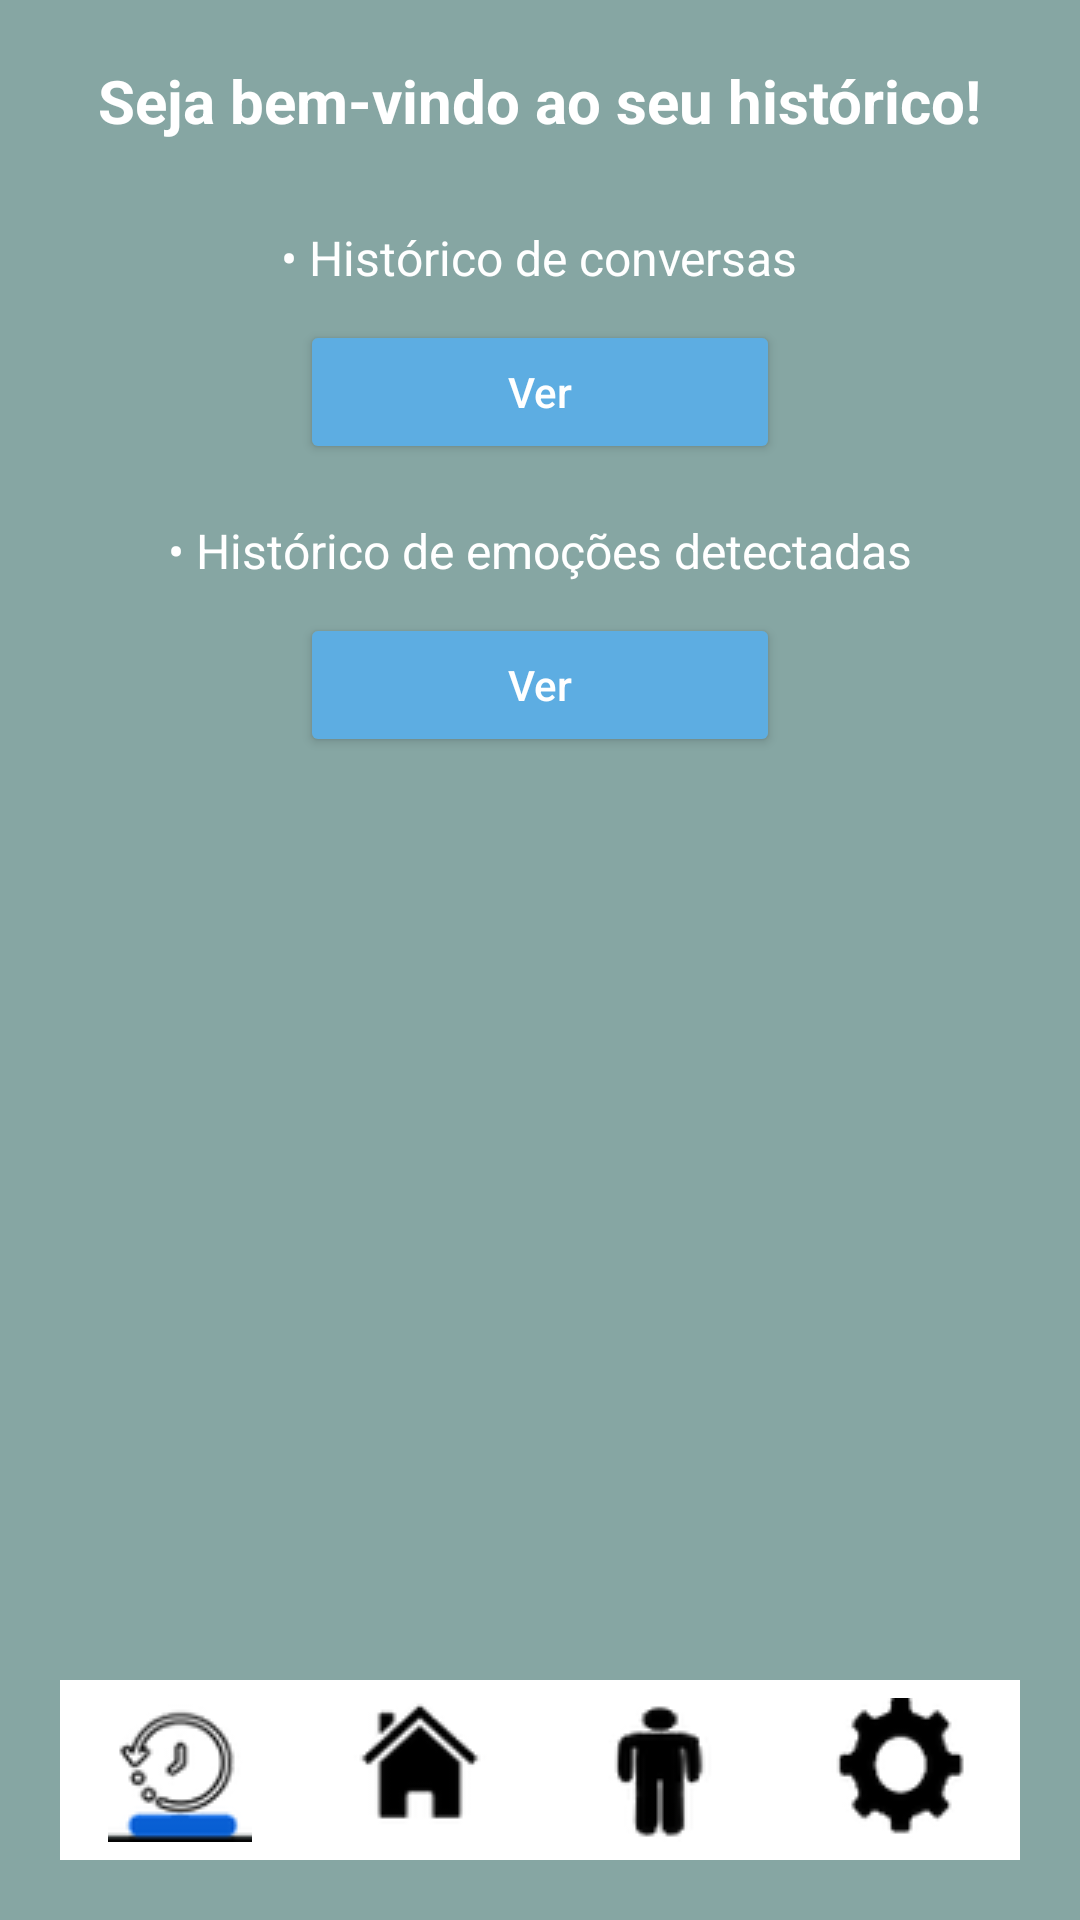

Named icons in this screenshot (1080×1920) and their centers, (x=x, y=y):
Configurações: (x=900, y=1770)
Home: (x=419, y=1762)
Perfil: (x=659, y=1771)
